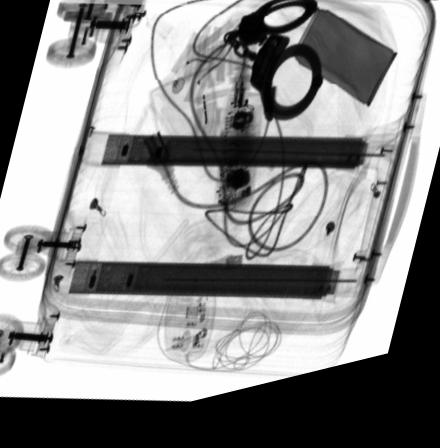HandCuffs: (221, 6, 323, 135)
